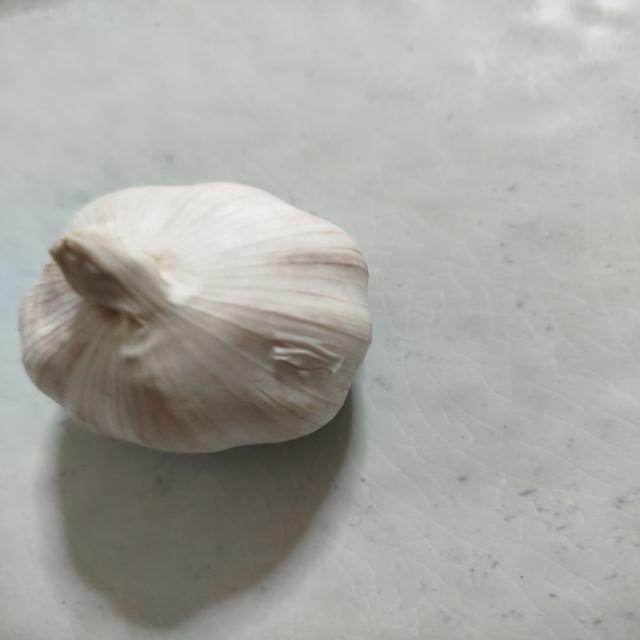garlic: (17, 180, 373, 454)
